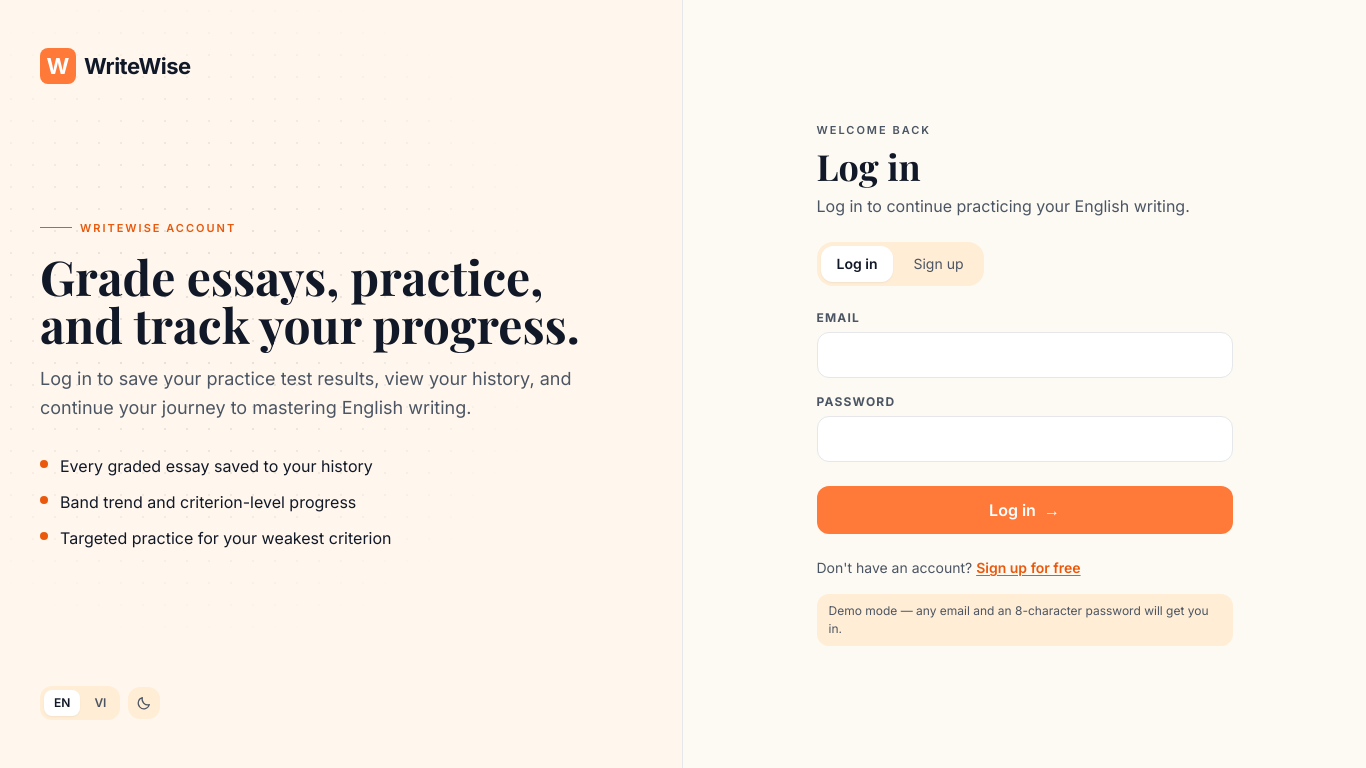
it: AuthScreen › keeps the password after a rejected sign-in
Type "learner@example.com" into the field labelled "Email" at (1024, 355), box top-left (816, 332), bottom-right (1232, 378)
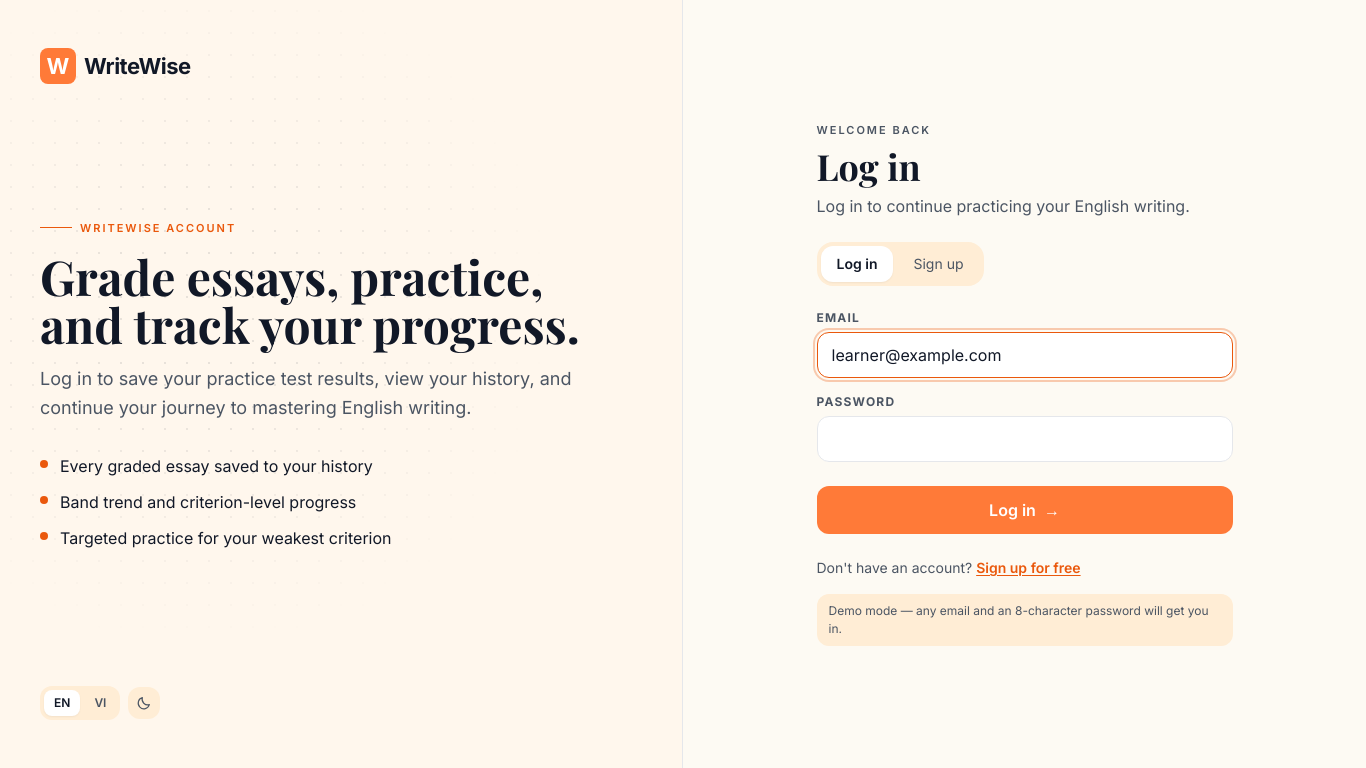
Type "a-long-password" into the password field labelled "Password" at (1024, 439), box top-left (816, 416), bottom-right (1232, 462)
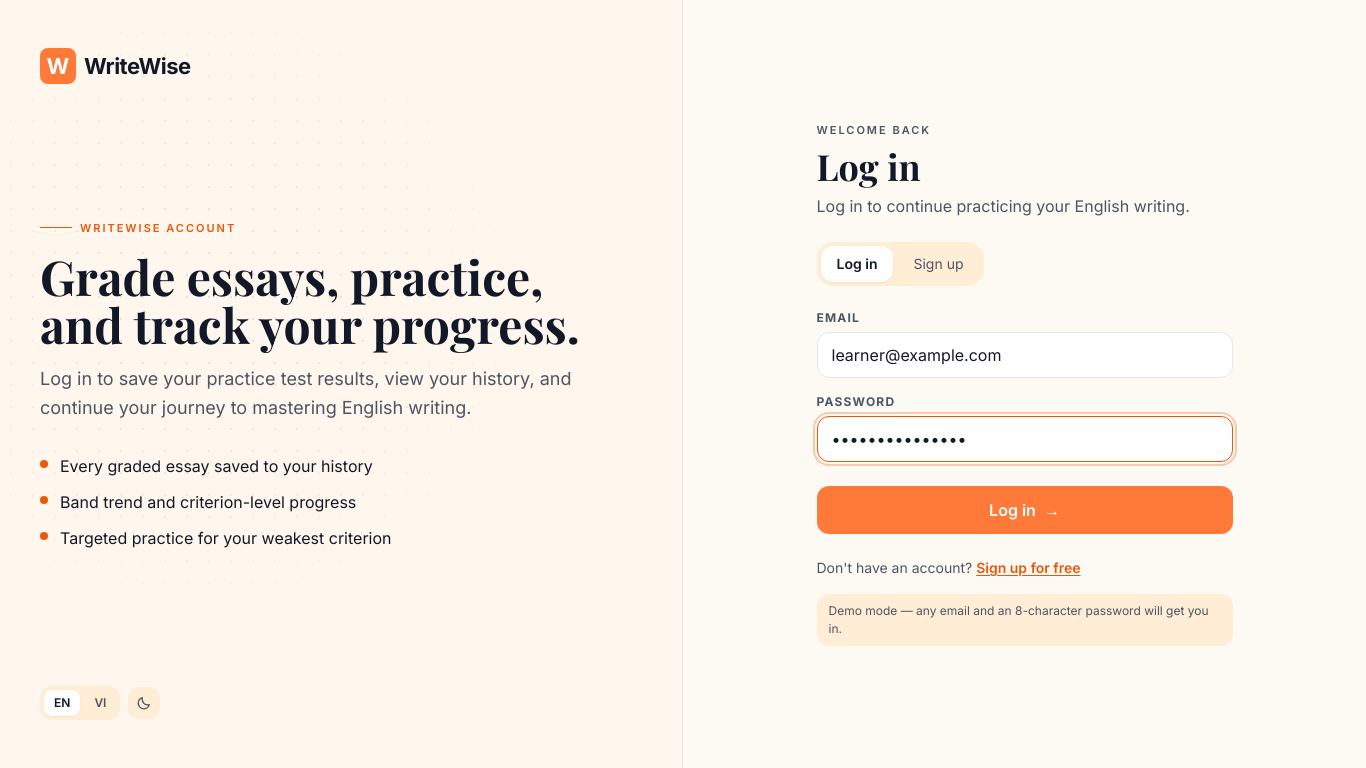
Click the button "Log in →" at (1024, 510), box top-left (816, 486), bottom-right (1232, 534)
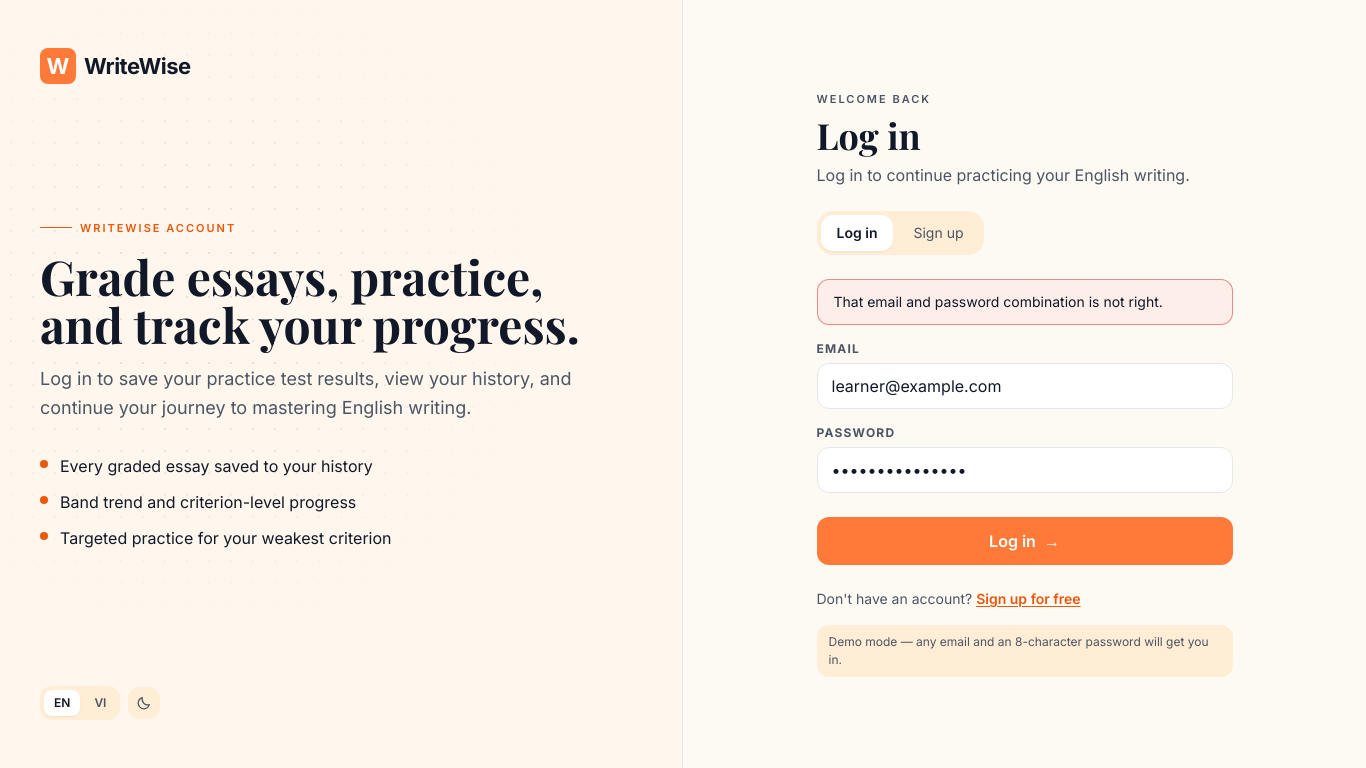
Check: the message shows "not right", box top-left (834, 293), bottom-right (1163, 310)
